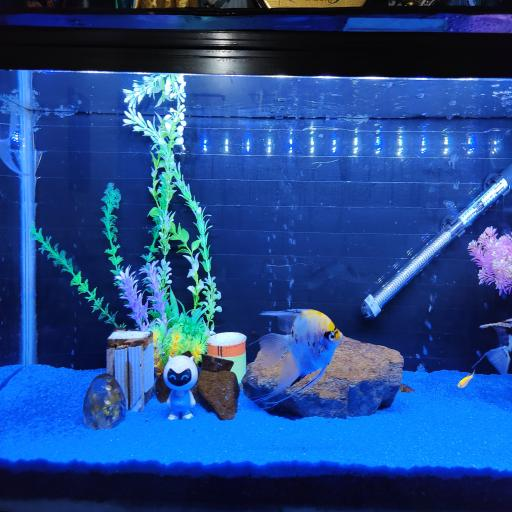Fish: (255, 310, 342, 405), (473, 319, 511, 374), (458, 371, 474, 388)
